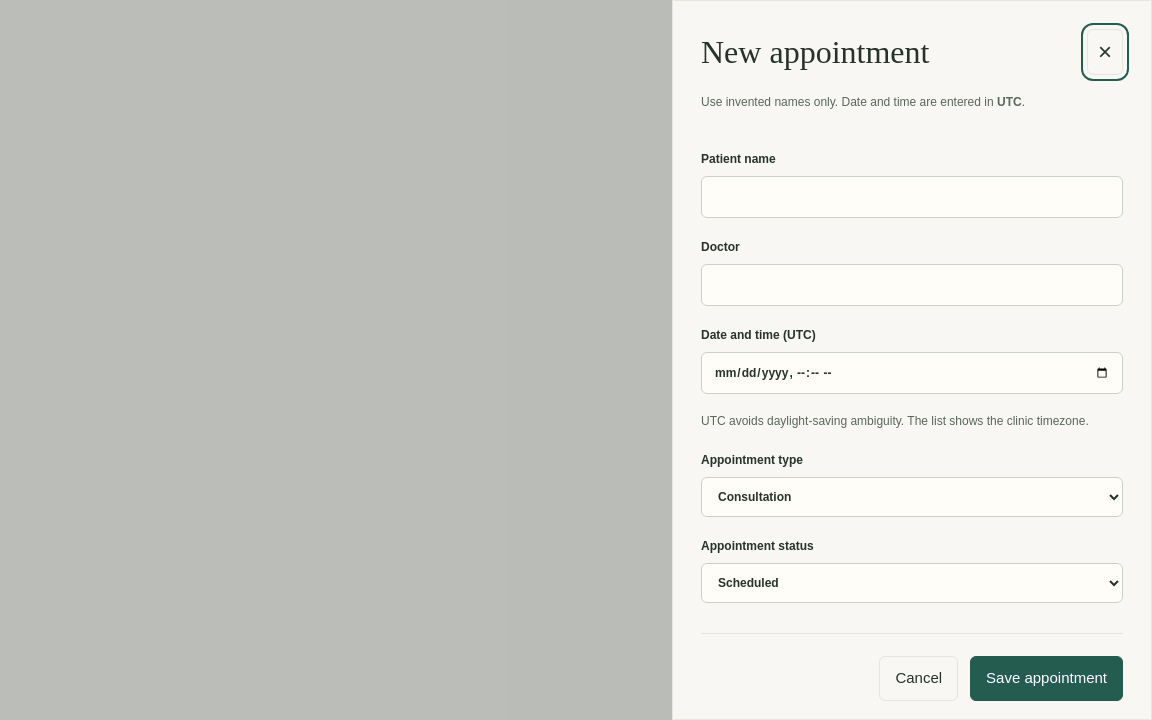
Test: keeps form input after field validation failure
Type "Fictional Rowan" into the field labelled "Patient name" at (912, 197), box [701, 176, 1123, 218]
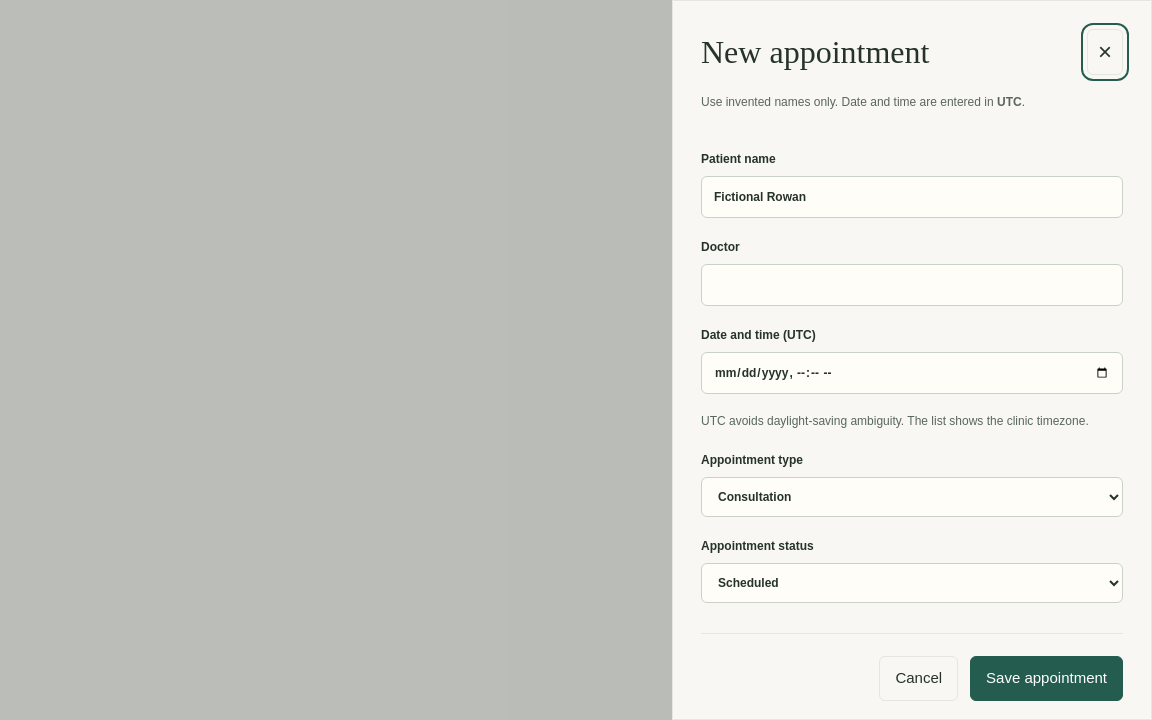
Type "Dr. Fictional Avery" into the field labelled "Doctor" at (912, 285), box [701, 264, 1123, 306]
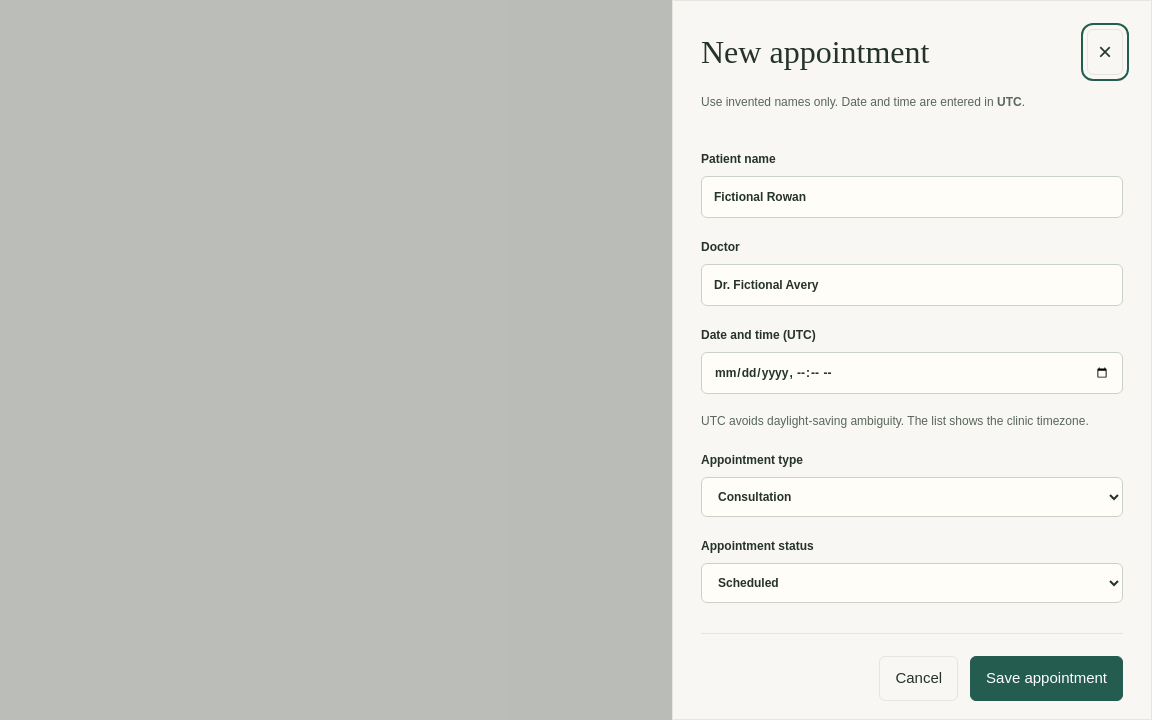
Type "2026-10-20T09:30" into the field labelled "Date and time (UTC)" at (912, 373), box [701, 352, 1123, 394]
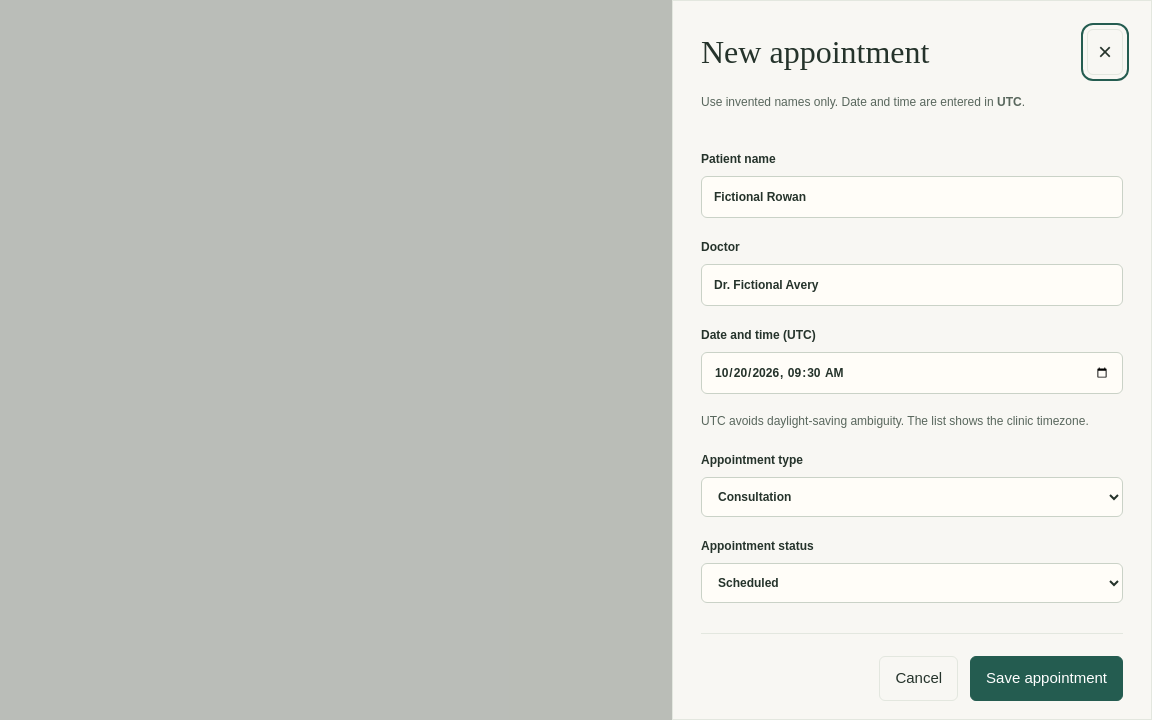
Submit the form named "Save appointment", box [701, 130, 1123, 701]
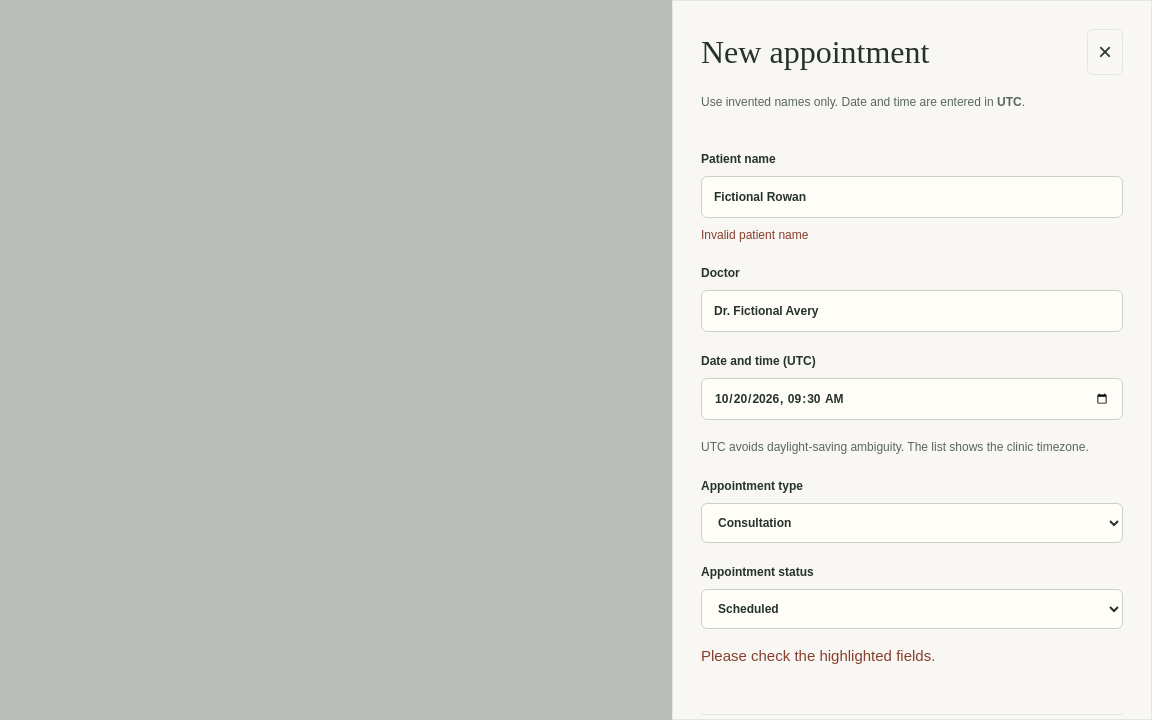
Expected: the text "Invalid patient name" is shown, [701, 228, 808, 242]
